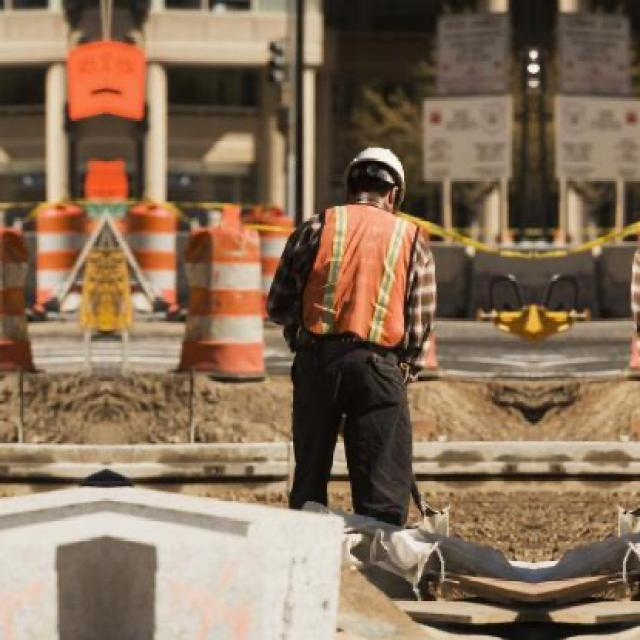con casco: (324, 137, 416, 260)
